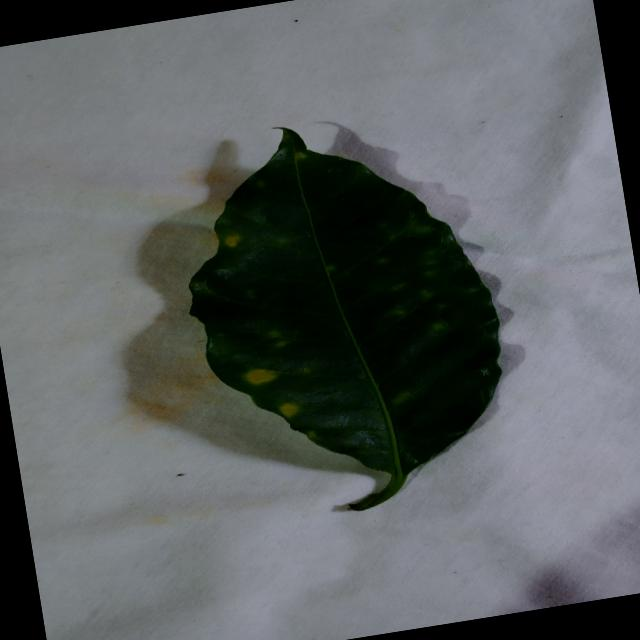KaratDaunKopi: (244, 369, 278, 385), (279, 402, 300, 418), (392, 392, 411, 405), (225, 235, 242, 247), (432, 322, 445, 331), (268, 330, 281, 337), (276, 340, 289, 347), (257, 180, 267, 188), (296, 152, 303, 160)
